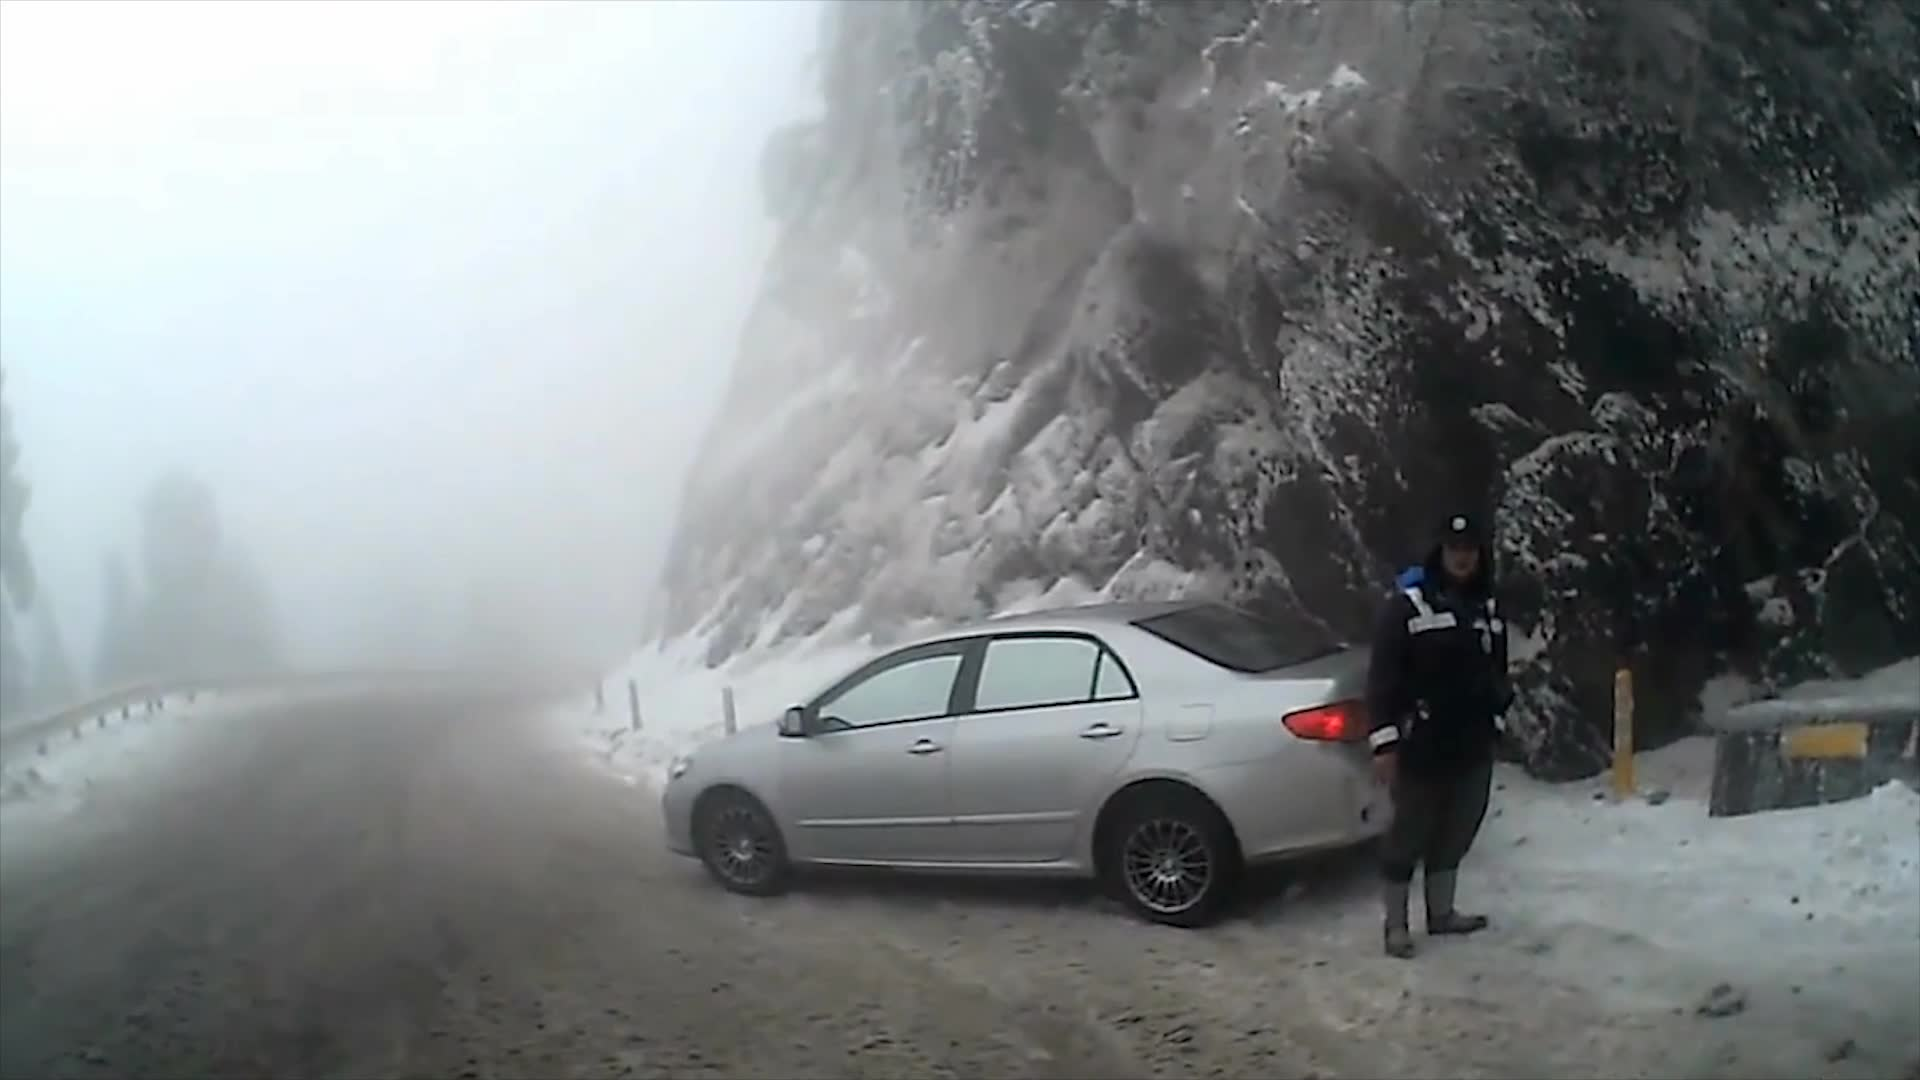pedestrian: (1354, 505, 1512, 954)
vehicle: (653, 598, 1458, 929)
